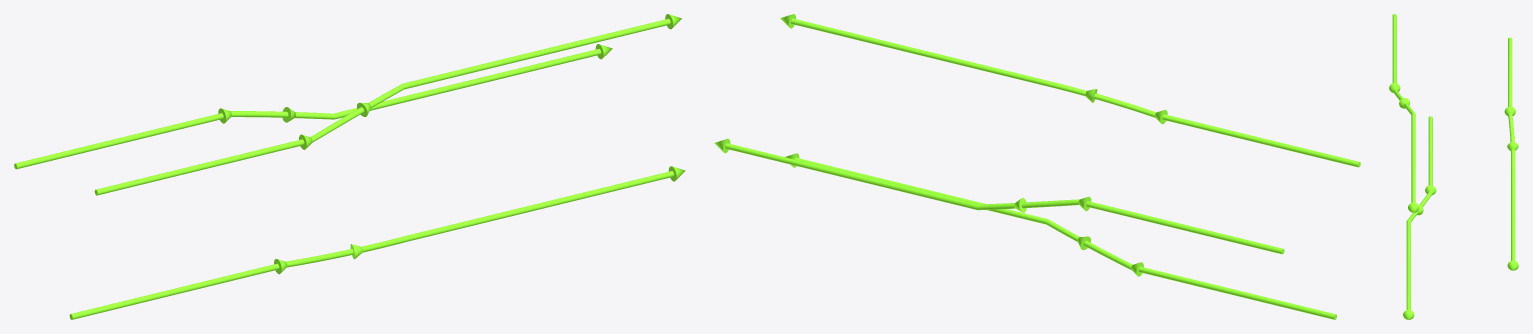
The model's file is axial_flow_fan_flow.glb.
3 renders of one model, left to right at view 1: azimuth 30°, elevation 25°; view 2: azimuth 150°, elevation 25°; view 3: azimuth 270°, elevation 25°, orthographic. The views are drawn at different scales.
Parts seen in each view (by area): view 1: air_2, air_1, air_0; view 2: air_1, air_0, air_2; view 3: air_0, air_1, air_2.
Boxes of the visible parts, x1,y1,x2,y2 form: air_2: [69, 166, 685, 319]; air_1: [94, 14, 681, 195]; air_0: [14, 44, 612, 169]; air_1: [780, 14, 1360, 167]; air_0: [714, 138, 1284, 254]; air_2: [784, 153, 1336, 319]; air_0: [1504, 37, 1518, 270]; air_1: [1389, 14, 1419, 212]; air_2: [1403, 116, 1436, 319].
Size of the model in its own units: 1.82 by 0.5078 by 0.4756.
